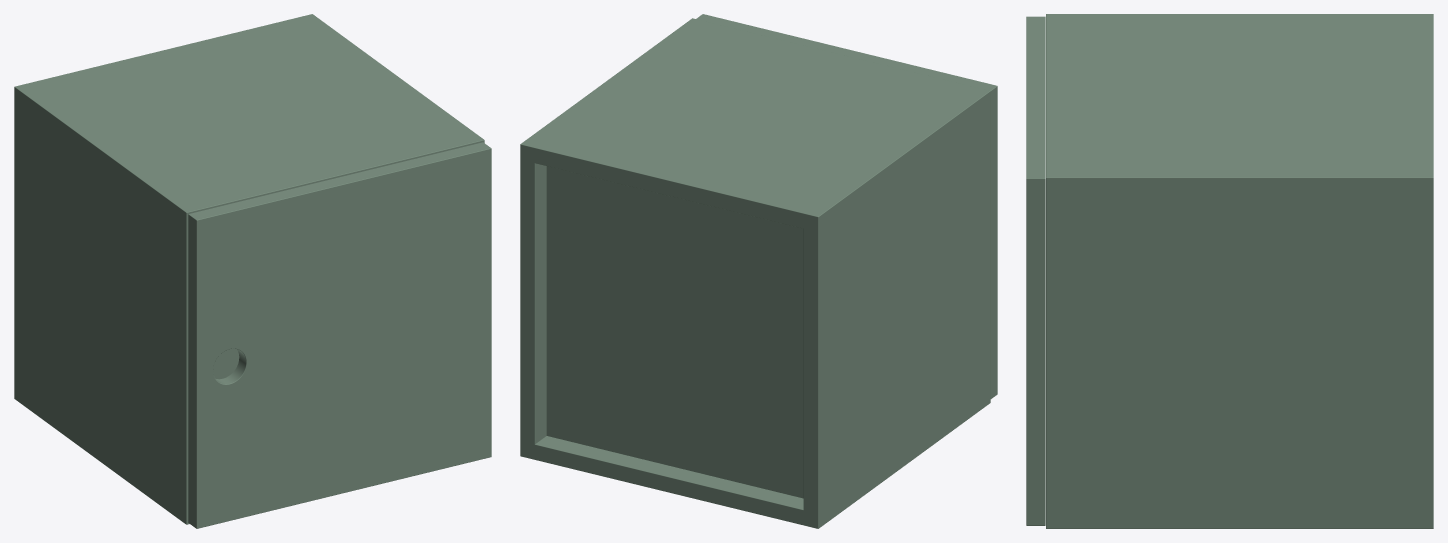
File: MOD_1X1_D_B_IZQ_VA.glb
3 renders of one model, left to right at view 1: azimuth 30°, elevation 25°; view 2: azimuth 150°, elevation 25°; view 3: azimuth 270°, elevation 25°, orthographic. The views are drawn at different scales.
Bounding box in the file's own units: 360 × 360 × 378.
